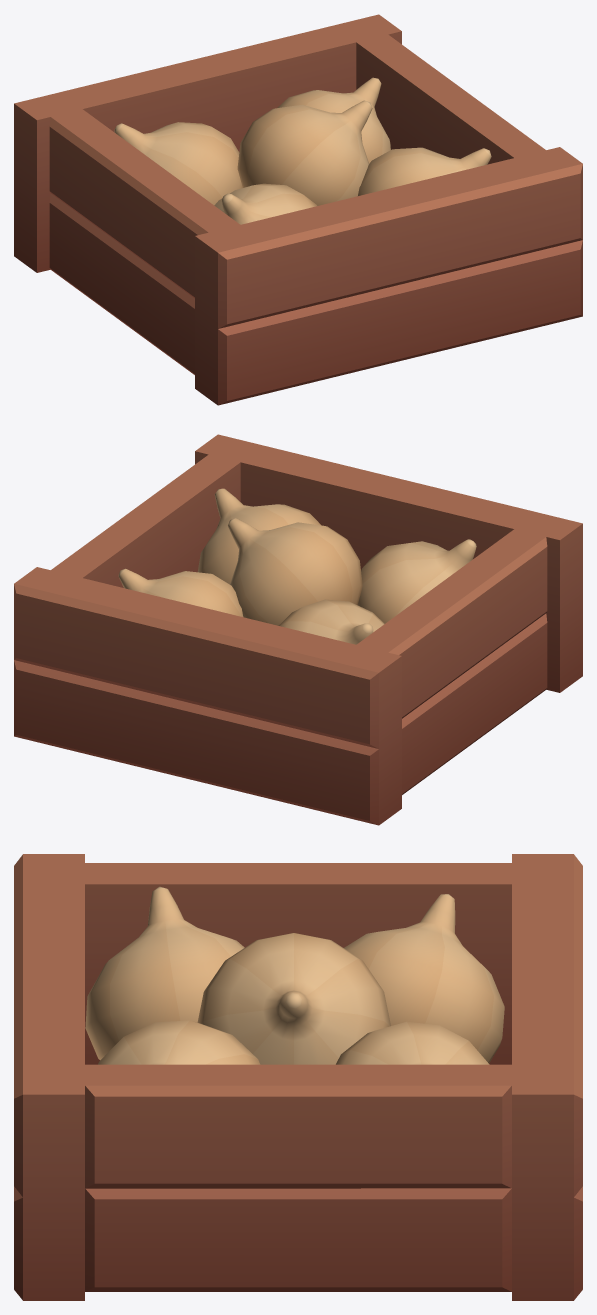
Rendered from Crate of Onions.glb.
The picture shows the model from 3 angles, top to bottom: view 1: azimuth 30°, elevation 25°; view 2: azimuth 150°, elevation 25°; view 3: azimuth 270°, elevation 25°; orthographic projection. The views are drawn at different scales.
Parts seen in each view (by area): view 1: crate_onions; view 2: crate_onions; view 3: crate_onions.
Boxes of the visible parts, bbox=[...] form: crate_onions: bbox=[14, 14, 582, 405]; crate_onions: bbox=[14, 434, 582, 825]; crate_onions: bbox=[14, 854, 582, 1300].
Size of the model in its own units: 2 by 0.9234 by 2.
Materials: 1 (1 with a texture image).
